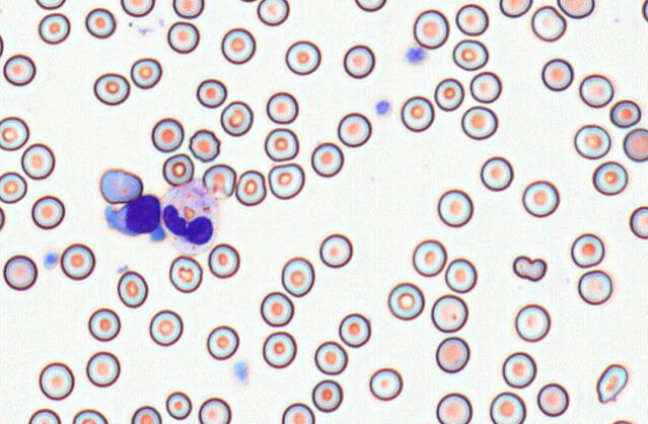GRAN: (158, 179, 221, 255)
LYM: (100, 193, 163, 236)
PLT: (404, 47, 430, 65), (43, 252, 60, 272), (375, 98, 392, 117)
RBC: (99, 168, 143, 204), (430, 294, 468, 333), (387, 281, 424, 320), (514, 303, 551, 342), (413, 9, 449, 49), (267, 162, 305, 199), (522, 179, 559, 217), (38, 361, 74, 400), (437, 188, 473, 227), (281, 256, 315, 297), (412, 238, 447, 277), (60, 242, 95, 280), (460, 105, 498, 140), (573, 124, 611, 159), (435, 336, 470, 373), (501, 351, 536, 388), (168, 255, 202, 293), (21, 142, 55, 180), (2, 254, 37, 290), (285, 40, 321, 75), (531, 5, 566, 41), (85, 351, 120, 387), (592, 160, 628, 195), (577, 269, 612, 305), (262, 331, 296, 368), (149, 309, 183, 346), (221, 27, 255, 64), (400, 95, 434, 132), (337, 112, 372, 147), (202, 163, 236, 199), (260, 291, 294, 327), (310, 141, 344, 177), (570, 232, 604, 268), (93, 72, 130, 105), (314, 340, 348, 375), (264, 127, 299, 161), (318, 233, 352, 268), (579, 73, 613, 108), (220, 100, 253, 136), (207, 242, 240, 278), (444, 257, 477, 293), (489, 391, 526, 423), (117, 270, 148, 308), (369, 367, 403, 401), (31, 195, 65, 229), (151, 117, 184, 152), (206, 325, 239, 360), (338, 312, 371, 347), (536, 382, 569, 417), (480, 156, 513, 191), (235, 169, 266, 206), (435, 392, 472, 423), (87, 307, 120, 341), (452, 39, 488, 70), (455, 3, 488, 36), (541, 57, 573, 91), (343, 44, 375, 78), (162, 153, 194, 186), (188, 129, 220, 162), (311, 379, 343, 412), (266, 91, 298, 124), (469, 71, 502, 103), (3, 54, 35, 86), (167, 21, 199, 53), (38, 12, 70, 44), (130, 57, 162, 89), (434, 77, 464, 111), (0, 116, 29, 151), (85, 7, 116, 38), (609, 99, 641, 128), (196, 78, 226, 108), (0, 171, 27, 203), (256, 0, 289, 26), (198, 397, 231, 423), (623, 127, 647, 162), (165, 391, 192, 420), (281, 402, 314, 423), (557, 0, 594, 18), (629, 205, 647, 239), (172, 0, 204, 19), (120, 0, 154, 17), (499, 0, 532, 17), (130, 405, 161, 423), (72, 408, 108, 423), (28, 408, 61, 423), (354, 0, 386, 12), (35, 0, 66, 10), (641, 0, 648, 22), (0, 206, 5, 230), (609, 419, 633, 423), (0, 34, 4, 57), (236, 0, 258, 3)
Schistocyte: (594, 362, 631, 405), (512, 254, 547, 284)
